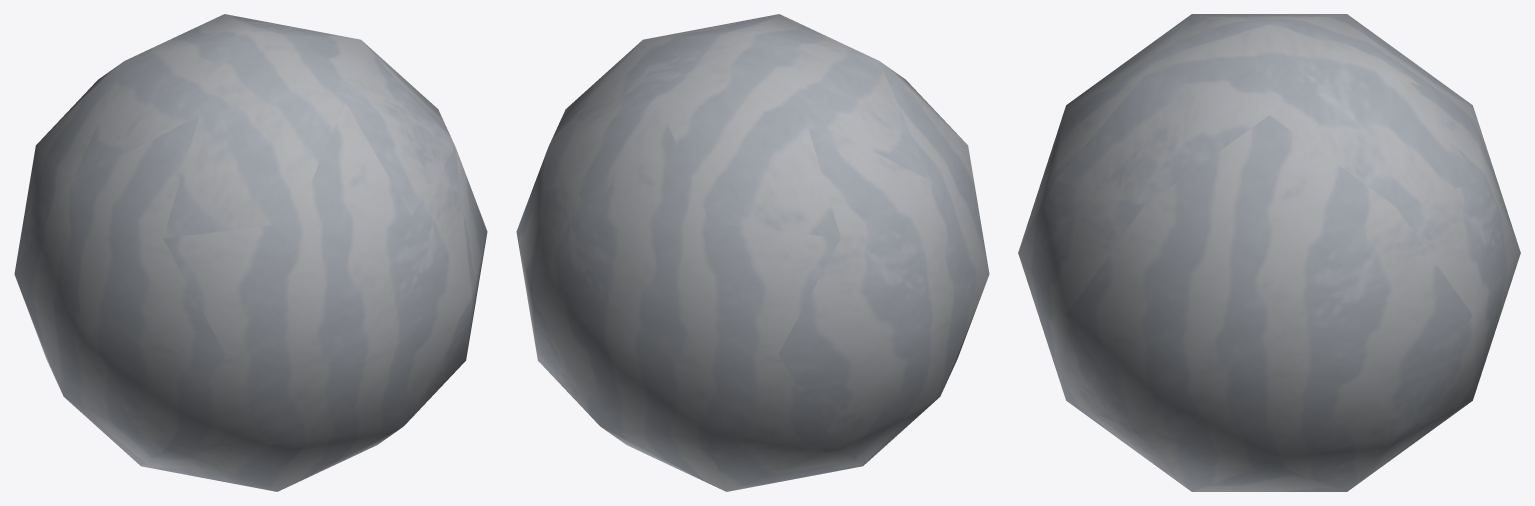
The model's file is SnowBall.gltf.
3 views of the same model, side by side, from view 1: azimuth 30°, elevation 25°; view 2: azimuth 150°, elevation 25°; view 3: azimuth 270°, elevation 25° (orthographic). The views are drawn at different scales.
Visible parts, largest first — view 1: SnowBall; view 2: SnowBall; view 3: SnowBall.
Boxes of the visible parts, x1,y1,x2,y2 form: SnowBall: (14,14,487,491); SnowBall: (516,14,989,491); SnowBall: (1018,14,1520,491).
Bounding box in the file's own units: 1.9 × 2 × 2.
1 material, 1 textured.
